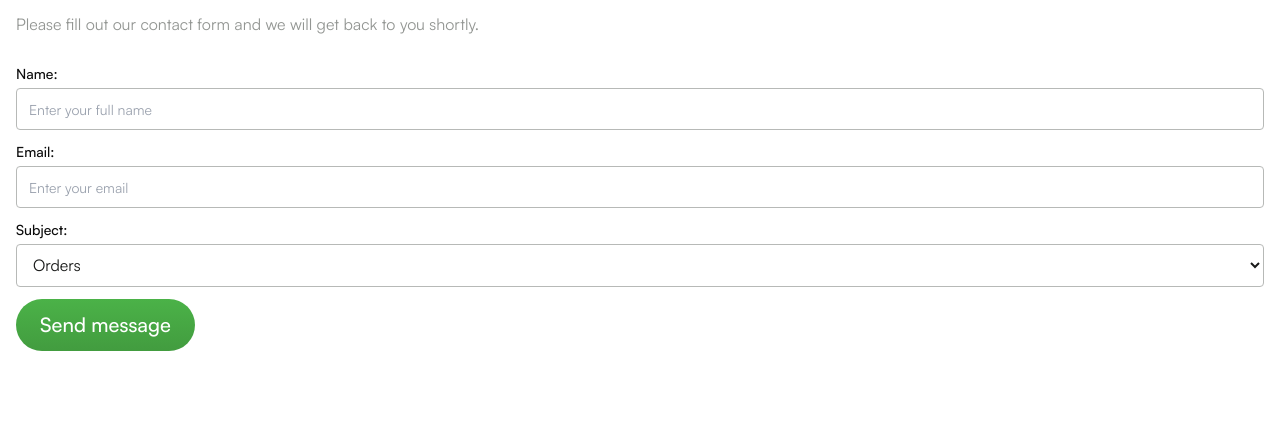
Test: Contact Form › should validate correct email
Type "invalid-email" into the field with placeholder "Enter your email" at (640, 187), box [16,166,1264,208]
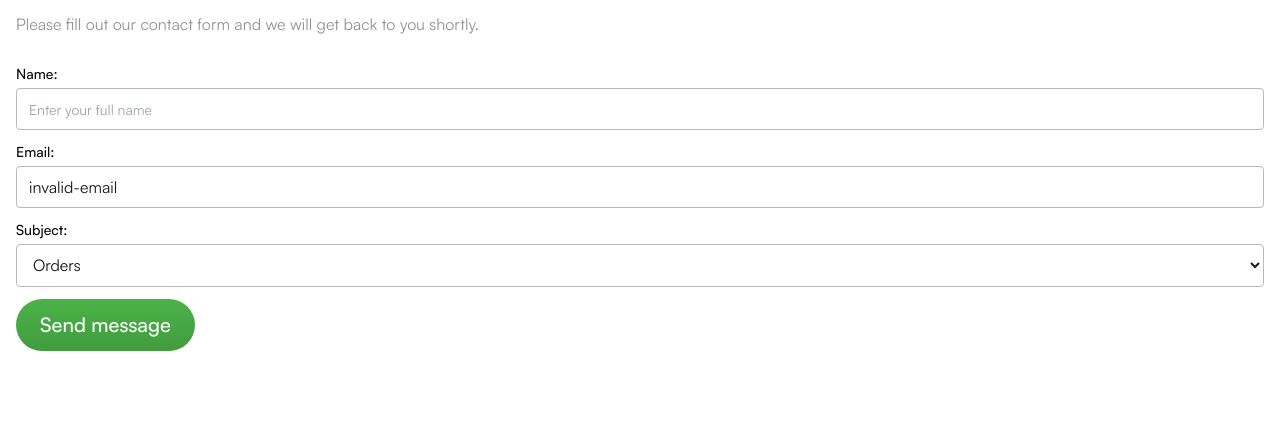
Click the button with test id "button" at (105, 324), box [16,298,195,350]
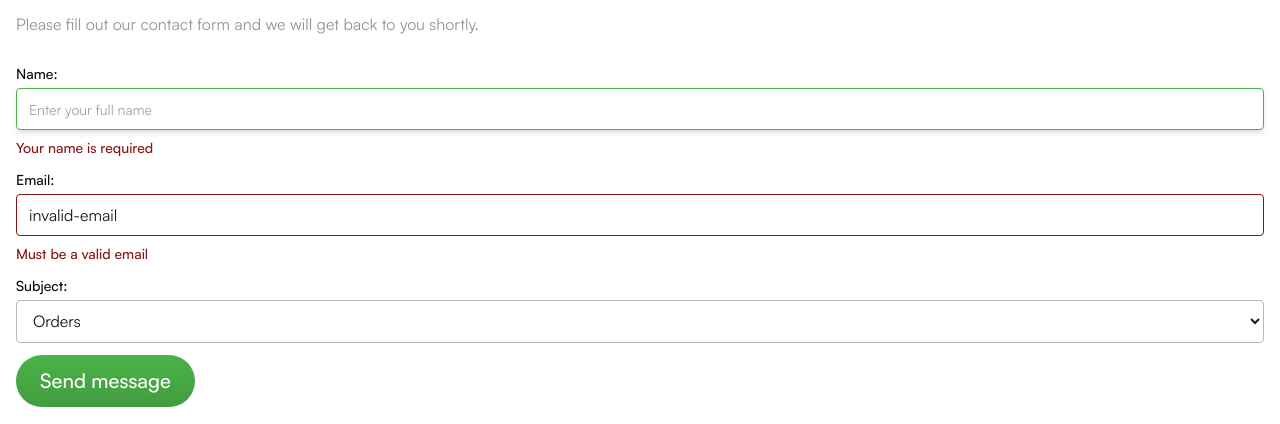
expect the text "Must be a valid email" is shown: met, box [16,245,148,262]
